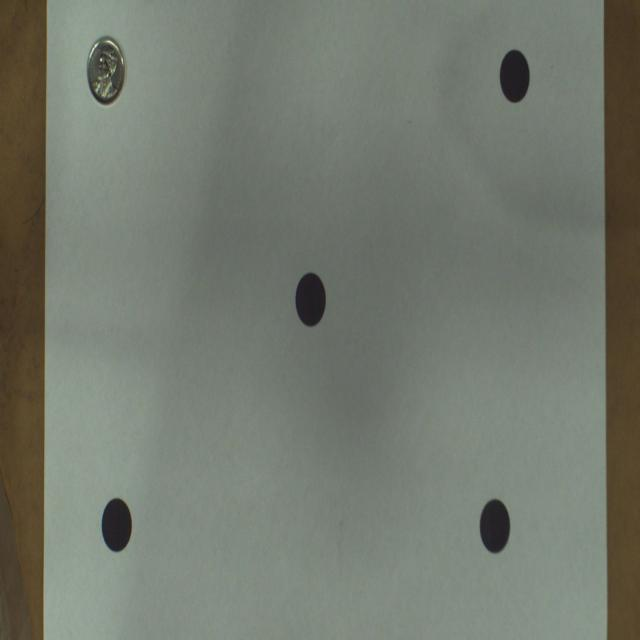head1bath: (88, 38, 125, 104)
space: (295, 273, 326, 327), (480, 498, 510, 553), (101, 498, 132, 551), (500, 51, 530, 102)
